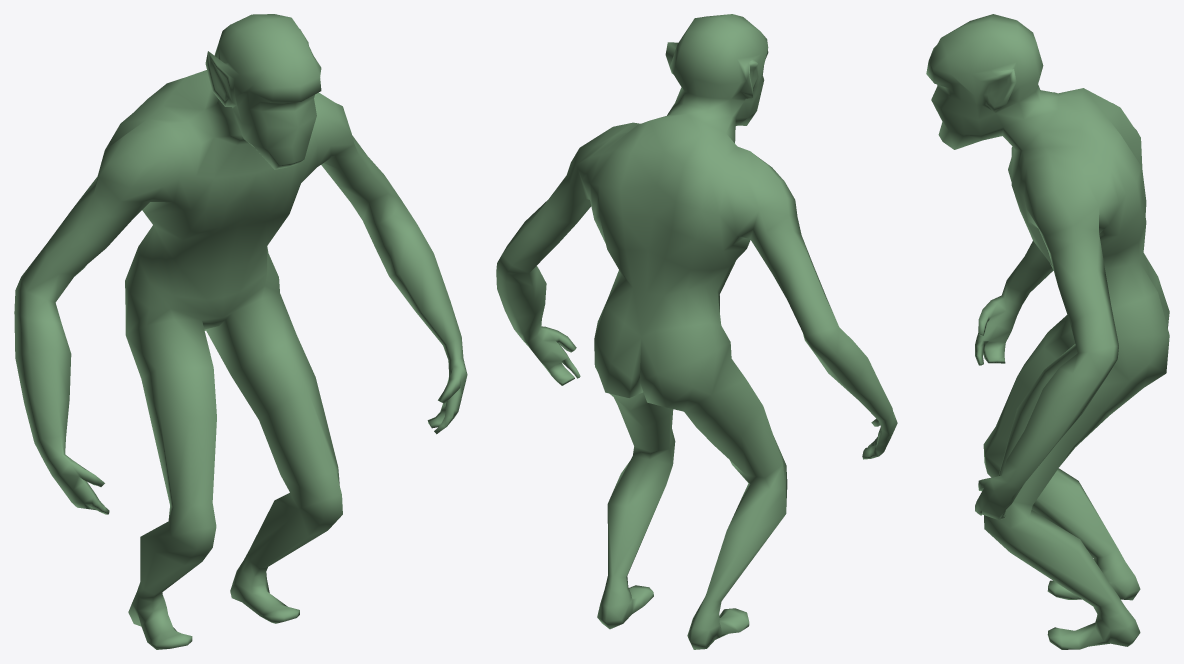
The model's file is Boblin.fbx.
3 views of the same model, side by side, from view 1: azimuth 30°, elevation 25°; view 2: azimuth 150°, elevation 25°; view 3: azimuth 270°, elevation 25° (orthographic). The views are drawn at different scales.
Parts seen in each view (by area): view 1: body; view 2: body; view 3: body.
Boxes of the visible parts, box(x1,y1,x2,y2) form: body: box(14, 14, 467, 649); body: box(496, 14, 897, 649); body: box(926, 14, 1169, 649).
Bounding box in the file's own units: 107 × 157 × 57.52.
